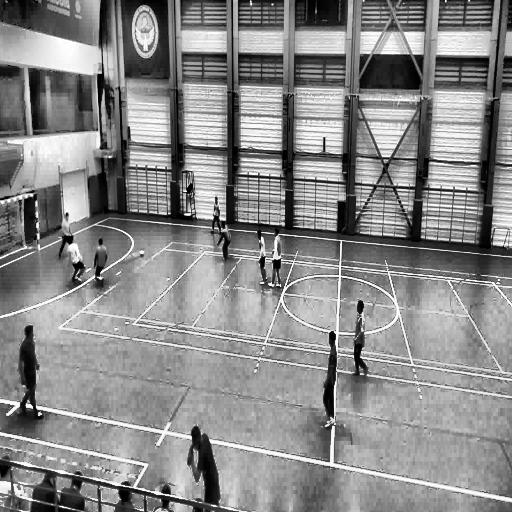ball: (138, 247, 145, 261)
player: (188, 426, 222, 512), (18, 327, 43, 417), (321, 329, 338, 431), (352, 300, 370, 378), (65, 234, 86, 284), (56, 212, 74, 262), (270, 227, 283, 289), (93, 237, 107, 288), (256, 230, 267, 286), (218, 220, 232, 262), (209, 196, 222, 237)
